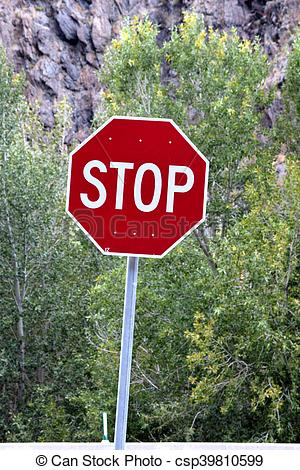stop: (63, 102, 212, 260)
